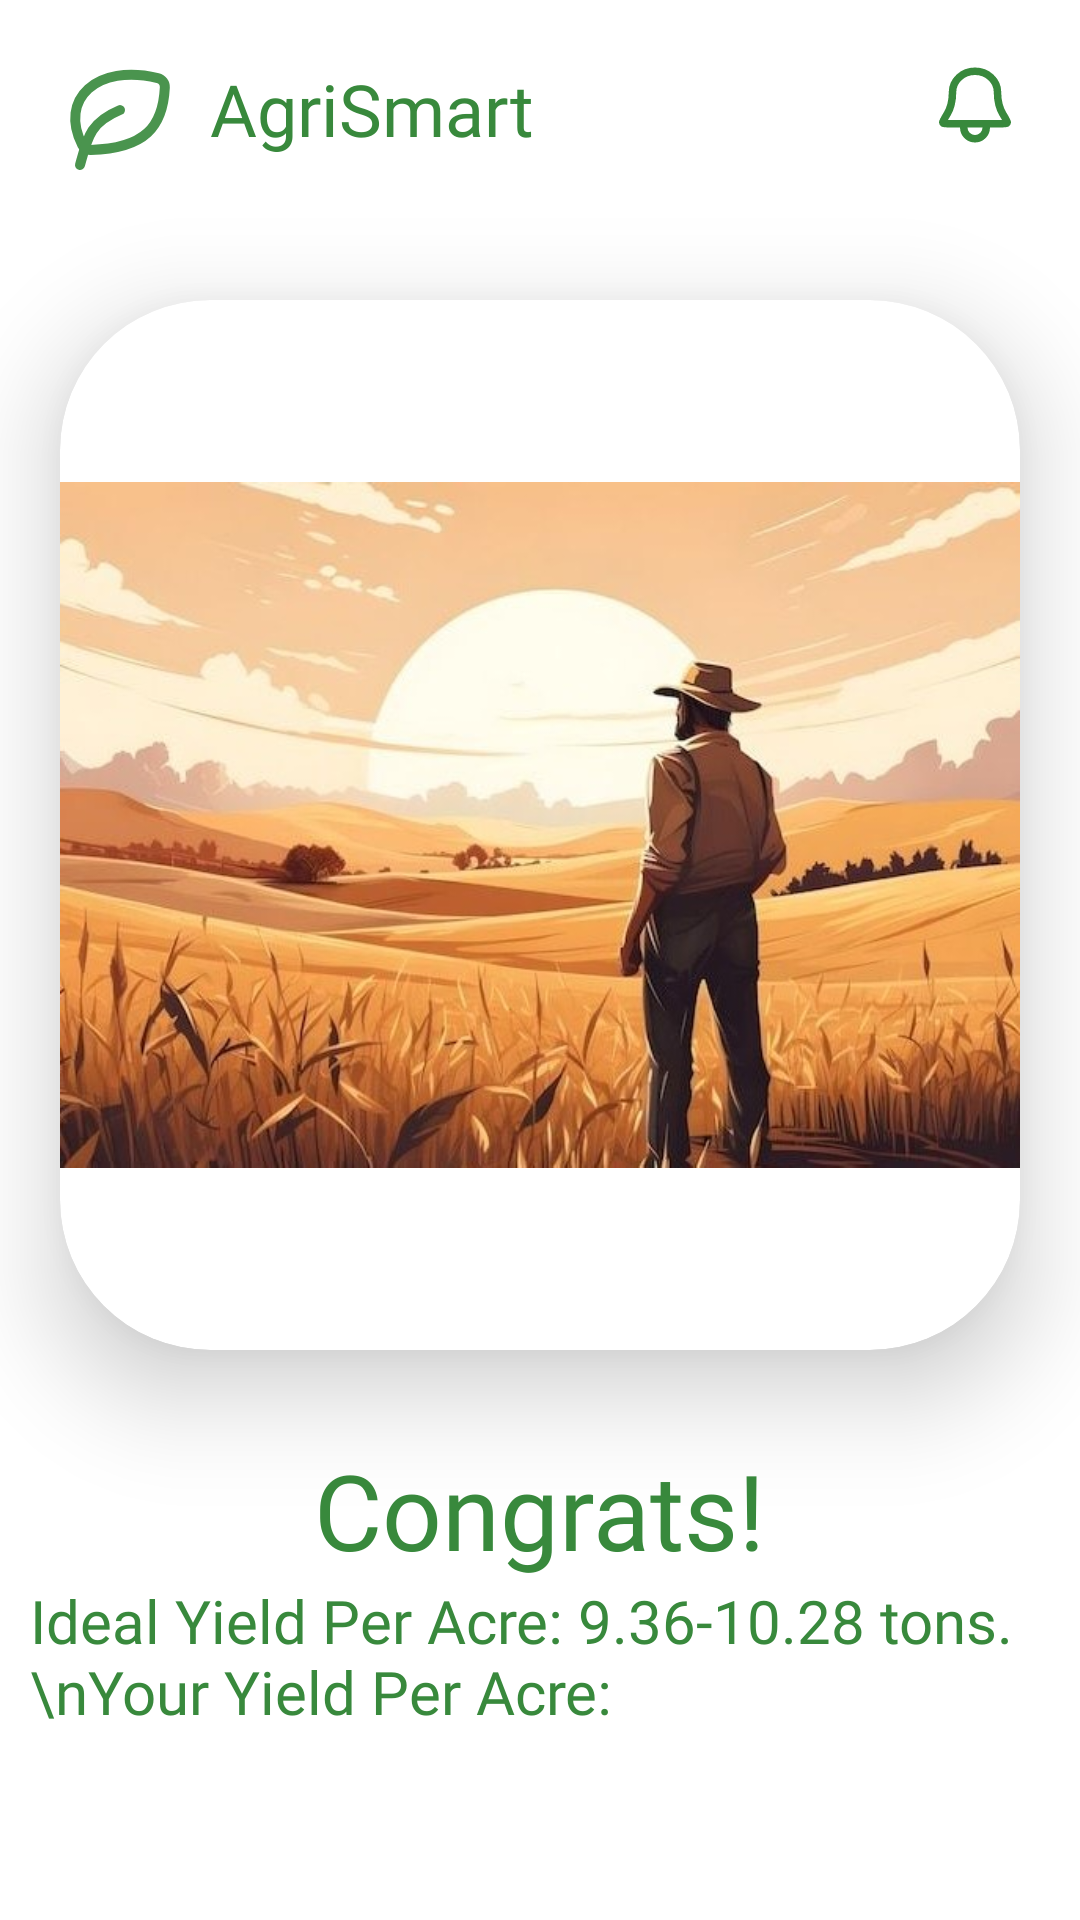

Locate icon controls on the screen. Image size 1080px x 1920px, boxes as (x1, y1, x2, y2).
bell: (939, 67, 1011, 143)
leaf: (70, 69, 170, 170)
